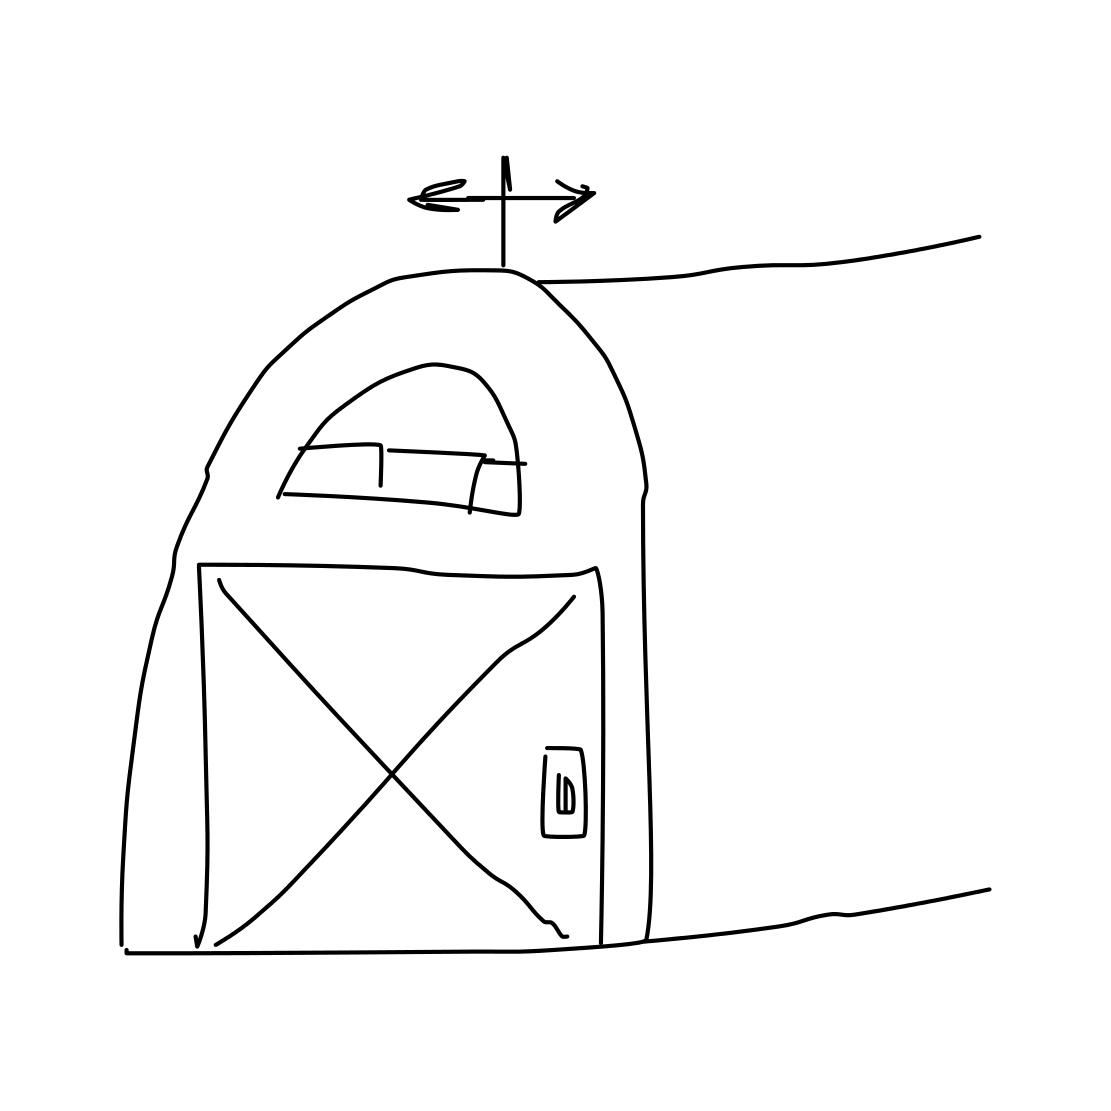House: (83, 198, 1049, 972)
